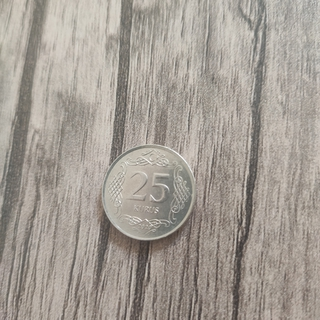25KURUS: (99, 142, 196, 242)
